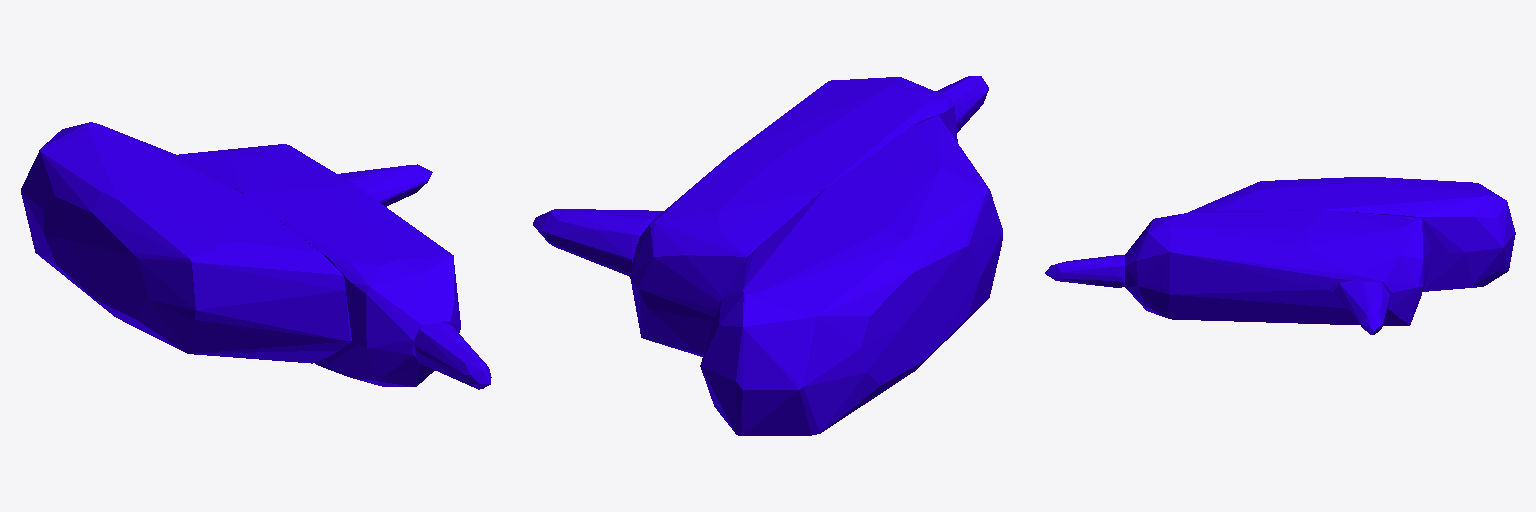
URDF robot description (blob275):
<robot name="blob275">
  <link name="random_obj_275">
    <contact>
      <lateral_friction value="1.0"/>
      <rolling_friction value="0.0"/>
      <inertia_scaling value="3.0"/>
      <contact_cfm value="0.0"/>
      <contact_erp value="1.0"/>
    </contact>
    <inertial>
      <origin rpy="0 0 0" xyz="0 0 0"/>
      <mass value="0.1"/>
      <inertia ixx="1" ixy="0" ixz="0" iyy="1" iyz="0" izz="0"/>
    </inertial>
    <visual>
      <origin rpy="0 0 0" xyz="0 0 0"/>
      <geometry>
        <mesh filename="275.obj" scale="0.015 0.015 0.015"/>
      </geometry>
      <material name="blockmat">
        <color rgba="0.26 0.01 0.99 1"/>
      </material>
    </visual>
    <collision>
      <origin rpy="0 0 0" xyz="0 0 0"/>
      <geometry>
        <mesh filename="275.obj" scale="0.015 0.015 0.015"/>
      </geometry>
    </collision>
  </link>
</robot>

--- What the picture shows (computed from the rendered views, not written in the file) ---
The picture shows the robot from 3 angles, left to right: view 1: azimuth 30°, elevation 25°; view 2: azimuth 150°, elevation 25°; view 3: azimuth 270°, elevation 25°; orthographic projection.
Model blob275 with 1 links and 0 joints (none), rooted at random_obj_275, posed every joint at zero.
Visible links, largest first — view 1: random_obj_275; view 2: random_obj_275; view 3: random_obj_275.
Link boxes in pixels (<box>): random_obj_275: <box>21,122,491,389</box>; random_obj_275: <box>533,76,1002,435</box>; random_obj_275: <box>1045,177,1515,334</box>.
Size in the robot's own frame: 0.0909 by 0.1511 by 0.0317 metres.
Meshes: 1 distinct files referenced, 1 mesh visuals loaded (1 OBJ).